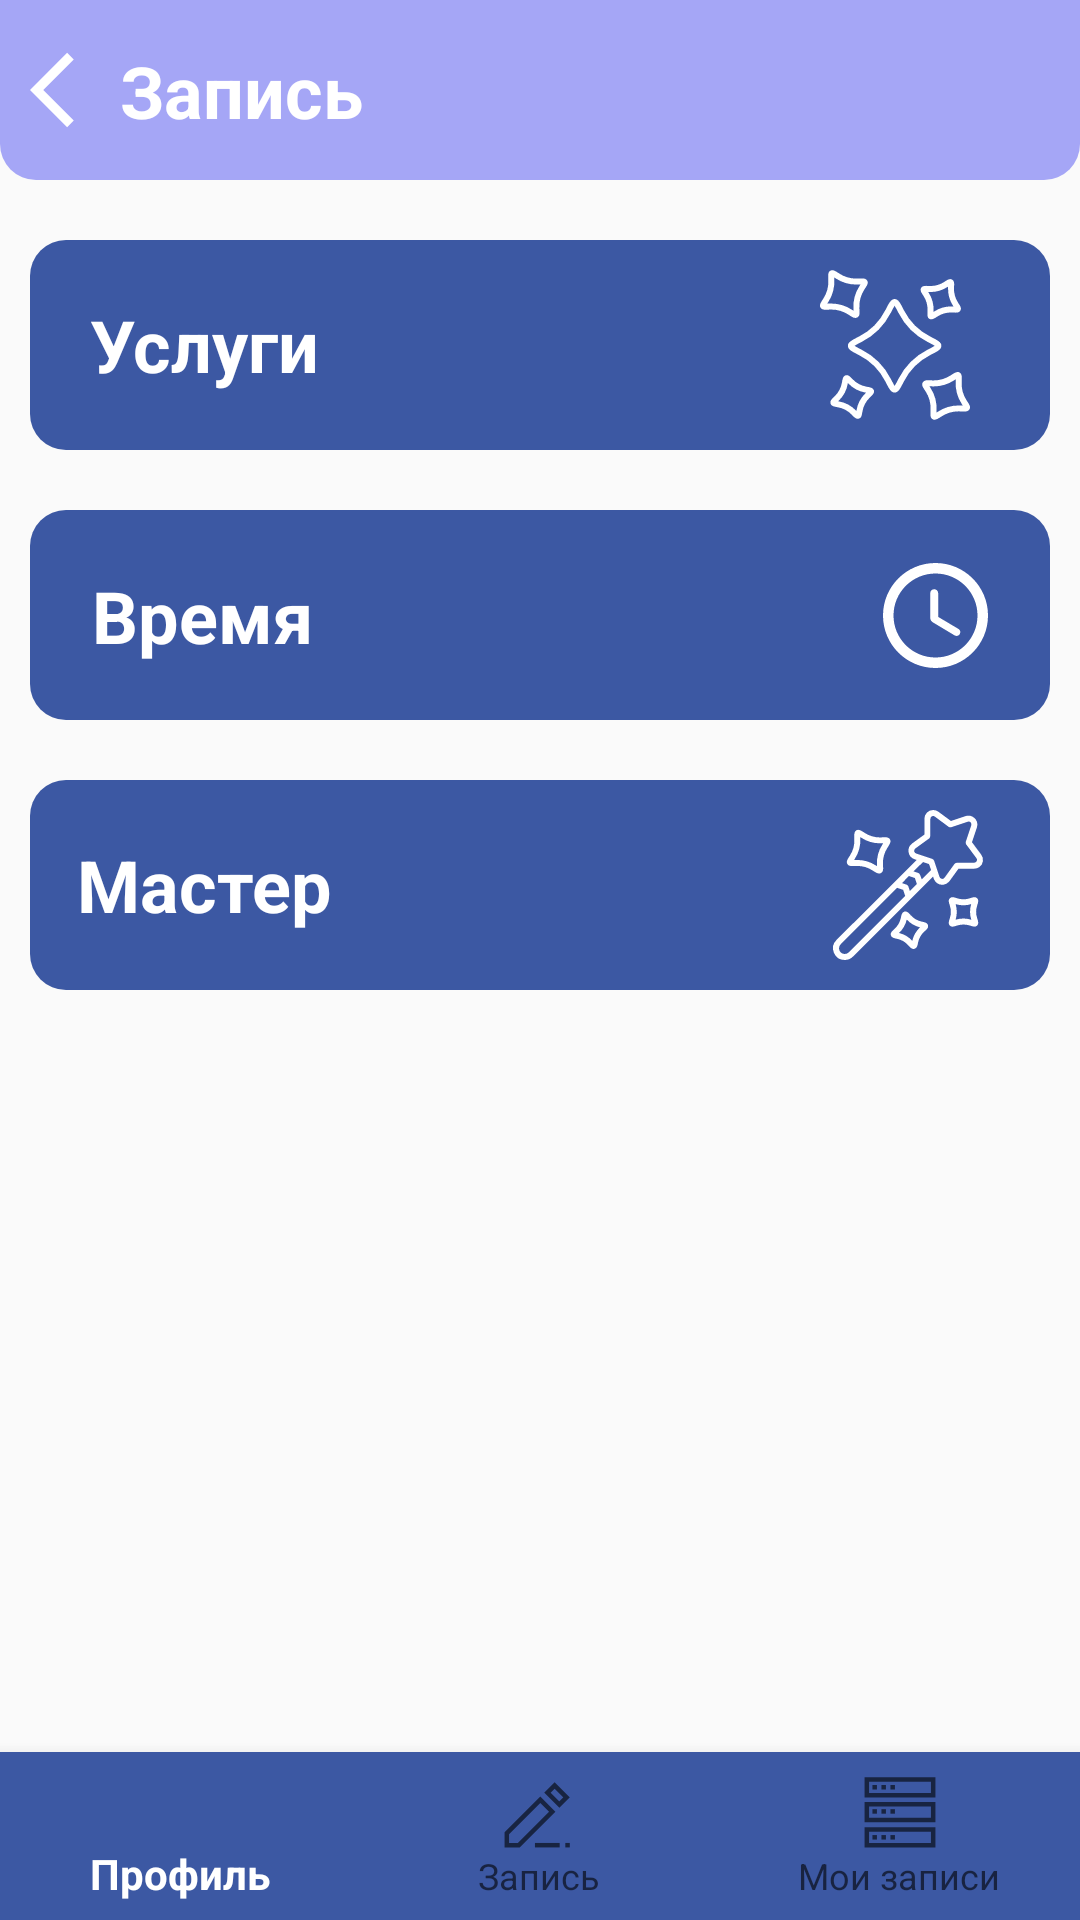

Where to tap for icons on this 1080w x 1920h app screen, as (x=x, y=y):
back: (x=52, y=90)
master: (x=908, y=885)
time: (x=935, y=615)
